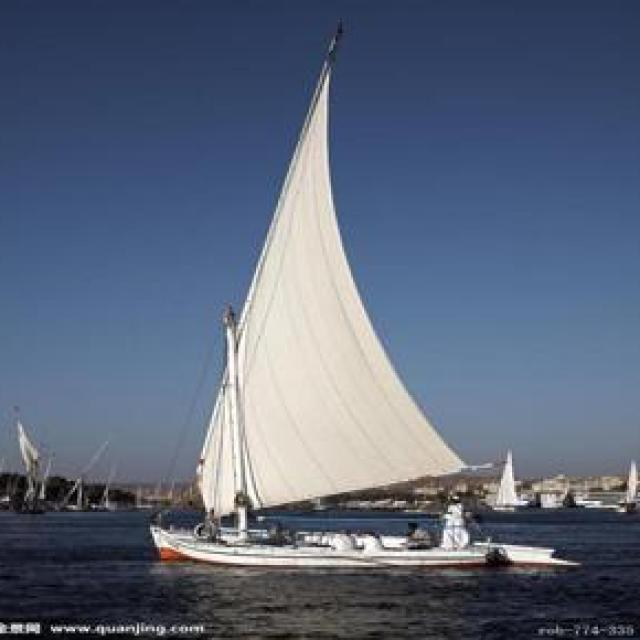sailboat: (145, 12, 523, 564), (481, 440, 523, 511), (611, 457, 640, 512)
